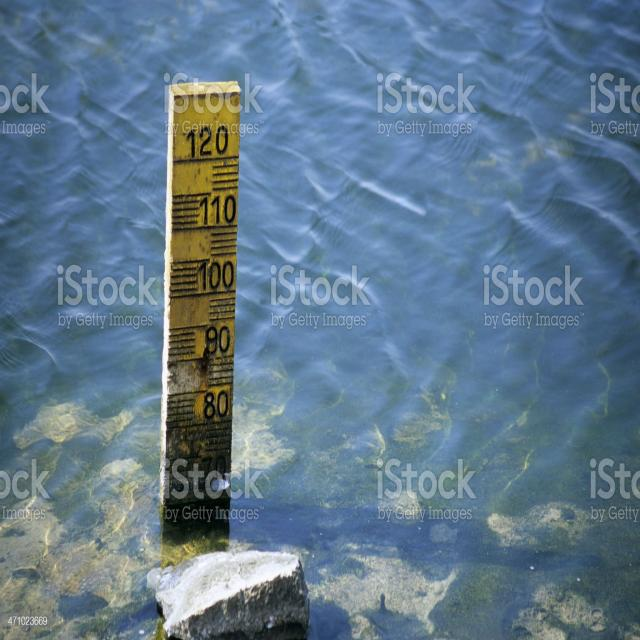staff: (160, 90, 240, 448)
